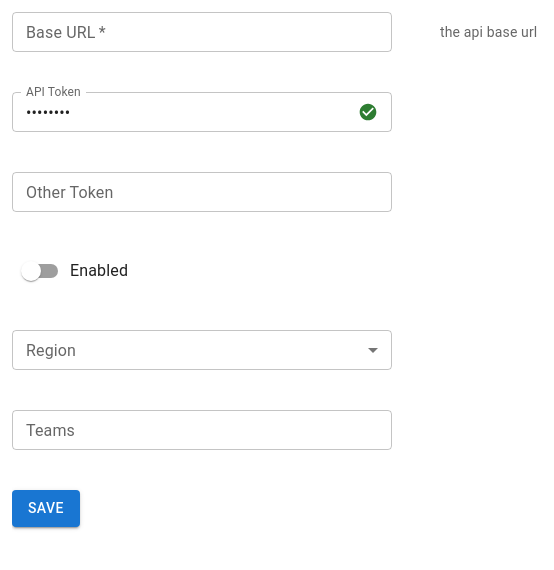
Scenario: SchemaForm › blank required text field blocks submit with a validation error
Click the button "Save" at (46, 508), box [12,490,80,526]
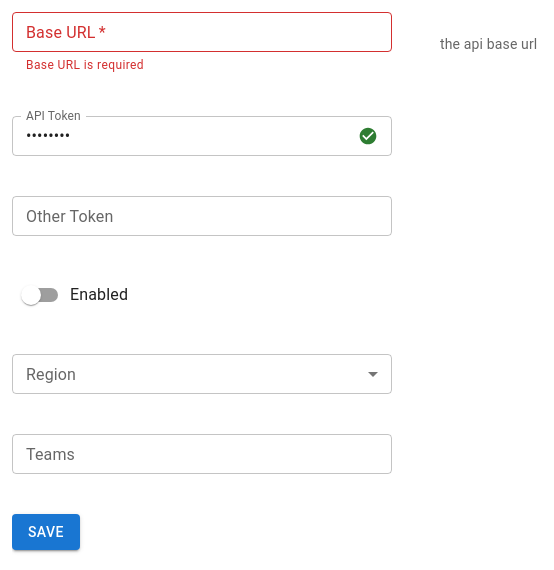
Expected: the text "Base URL is required" is shown, [26,58,144,72]
